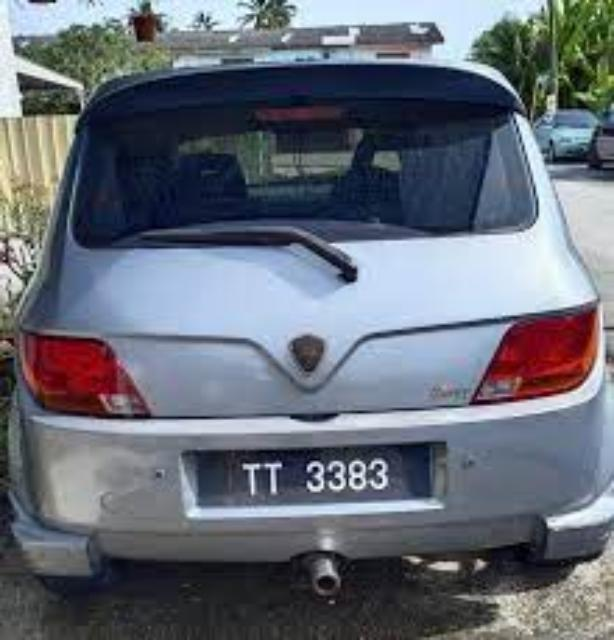License_Plate: (176, 444, 468, 524)
car: (28, 79, 611, 593)
